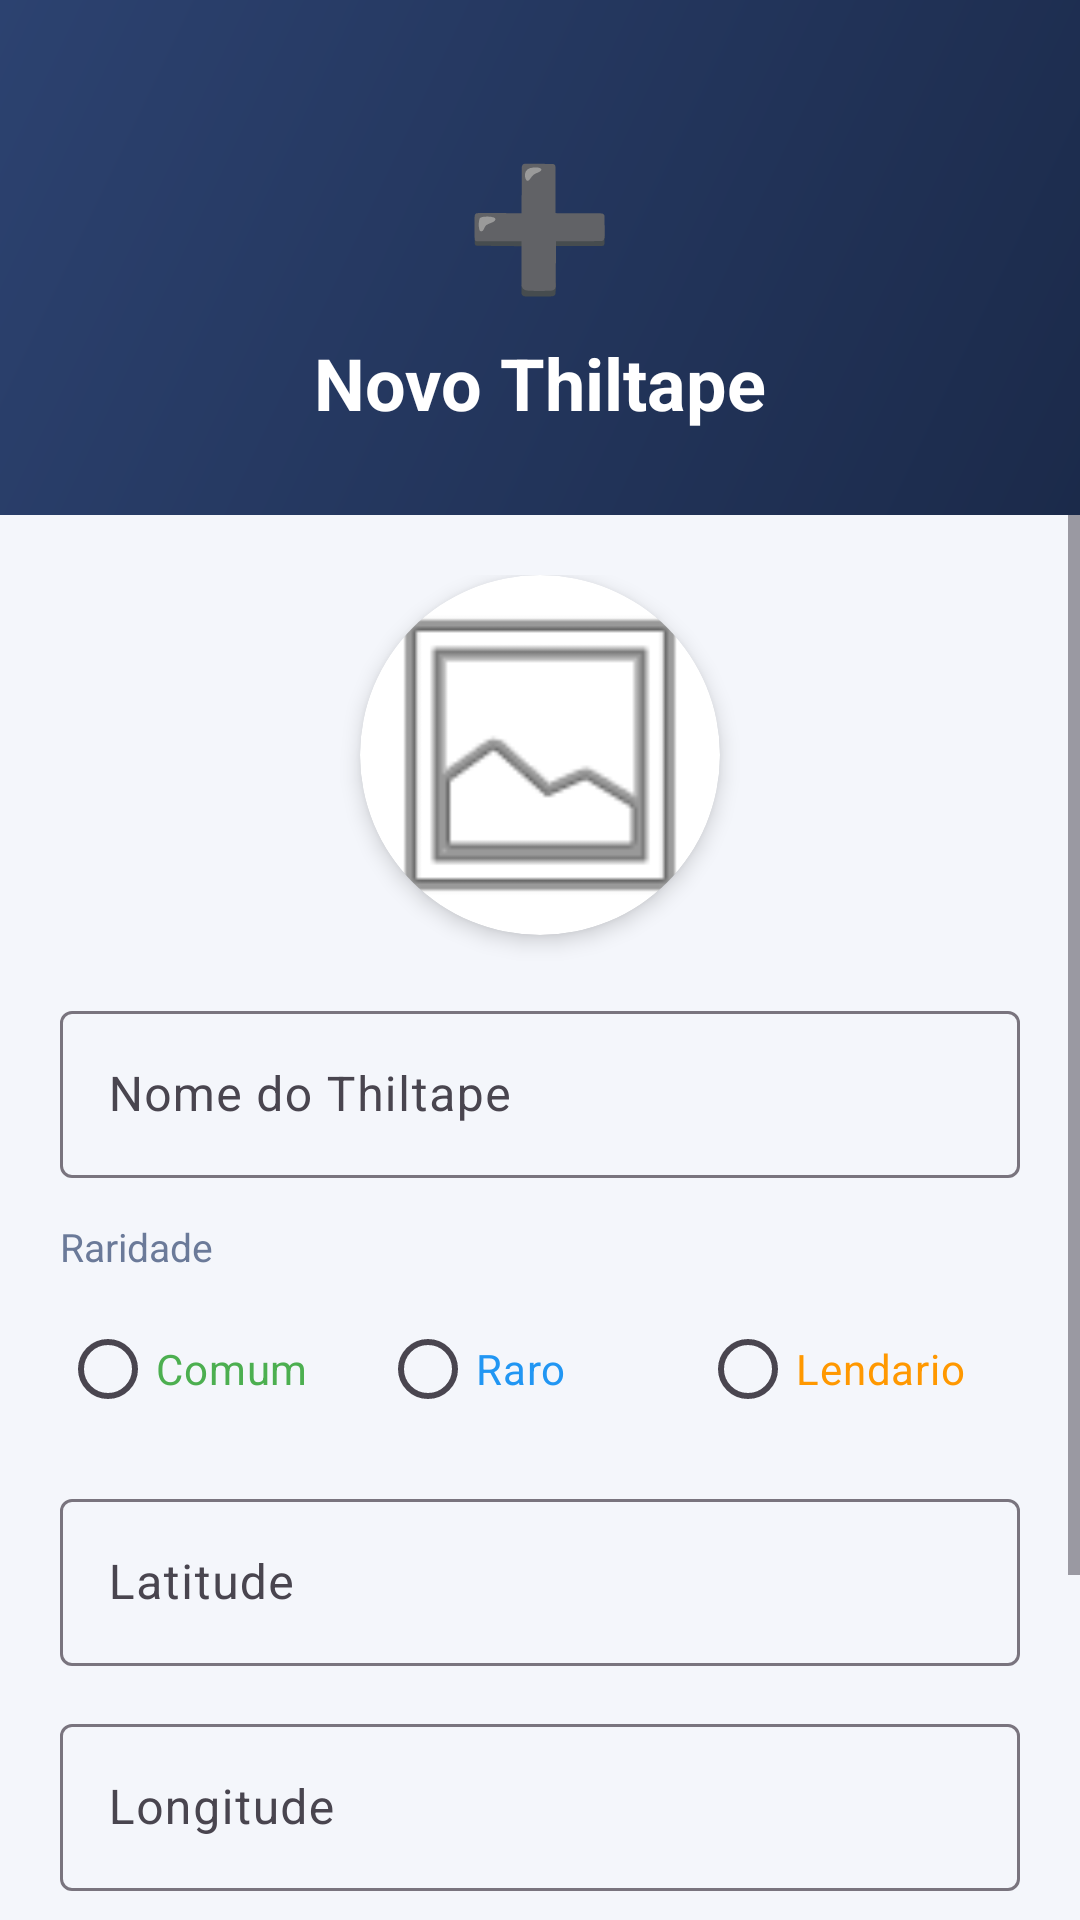

Named icons in this screenshot (1080x1920) and their centers, (x,y):
gallery: (540,755)
